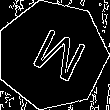M_SW: (20, 22, 85, 88)
